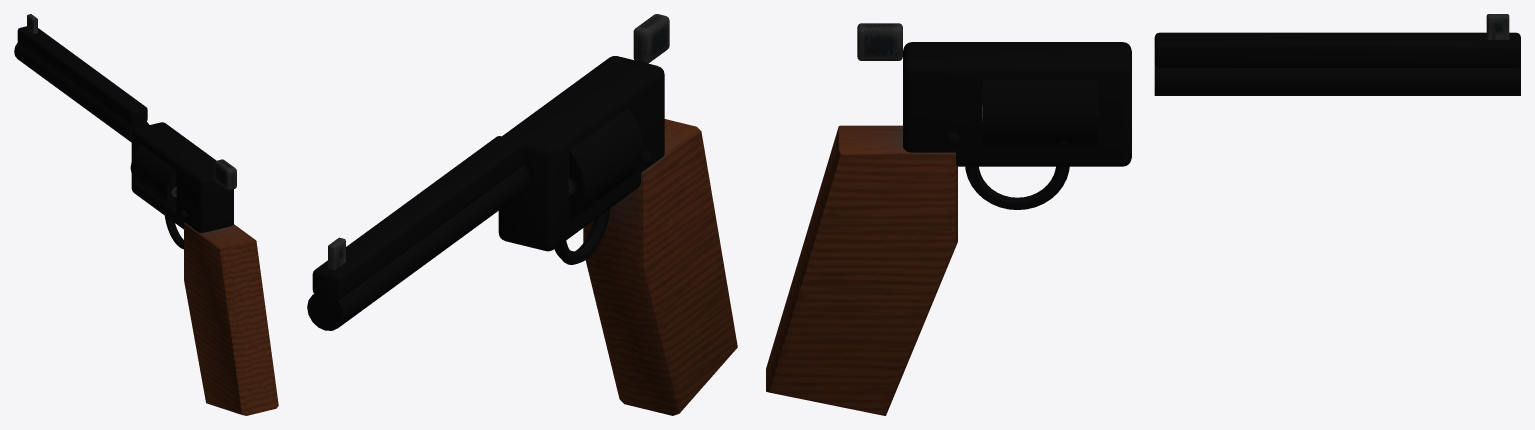
3 views of the same model, side by side, from view 1: azimuth 30°, elevation 25°; view 2: azimuth 150°, elevation 25°; view 3: azimuth 270°, elevation 25° (orthographic). The views are drawn at different scales.
Visible parts, largest first — view 1: body_furniture, body_receiver, mag_receiver; view 2: body_receiver, body_furniture, mag_receiver; view 3: body_receiver, body_furniture, mag_receiver.
Part boxes in pixels (<box>): body_furniture: <box>184,222,278,415</box>; body_receiver: <box>14,14,236,249</box>; mag_receiver: <box>130,144,176,212</box>; body_receiver: <box>307,14,669,330</box>; body_furniture: <box>583,119,737,415</box>; mag_receiver: <box>568,108,643,220</box>; body_receiver: <box>857,14,1520,209</box>; body_furniture: <box>766,125,957,415</box>; mag_receiver: <box>982,79,1098,148</box>.
Size of the model in its own units: 0.044 by 0.1877 by 0.3298.
Materials: 4 (4 with a texture image).
